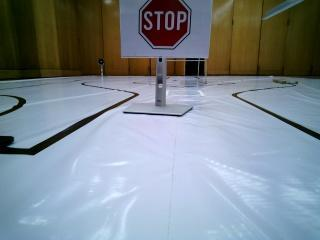stop: (120, 0, 209, 58)
